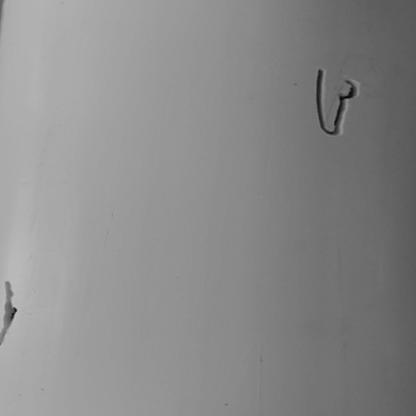fengxi: (301, 59, 365, 141)
kongdong: (1, 278, 34, 340)
